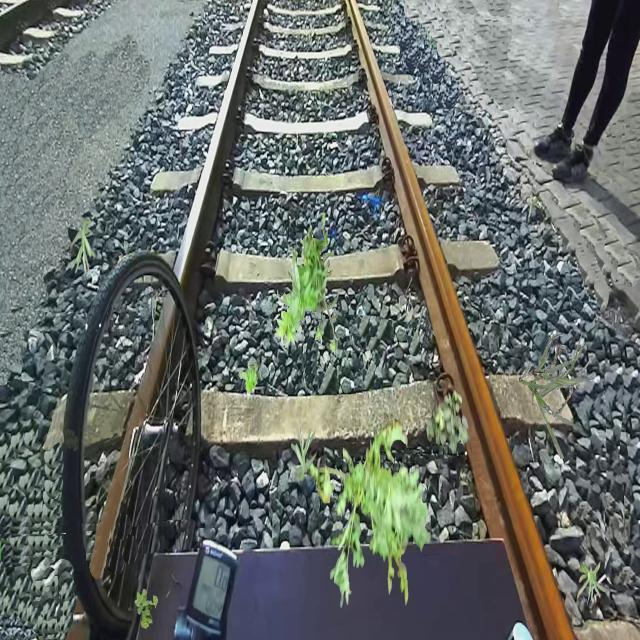Plant: (306, 413, 431, 609), (274, 212, 338, 356), (519, 334, 592, 458), (426, 388, 469, 454), (291, 425, 318, 482), (577, 560, 610, 606), (70, 219, 96, 276), (135, 589, 159, 630), (238, 361, 258, 394)
